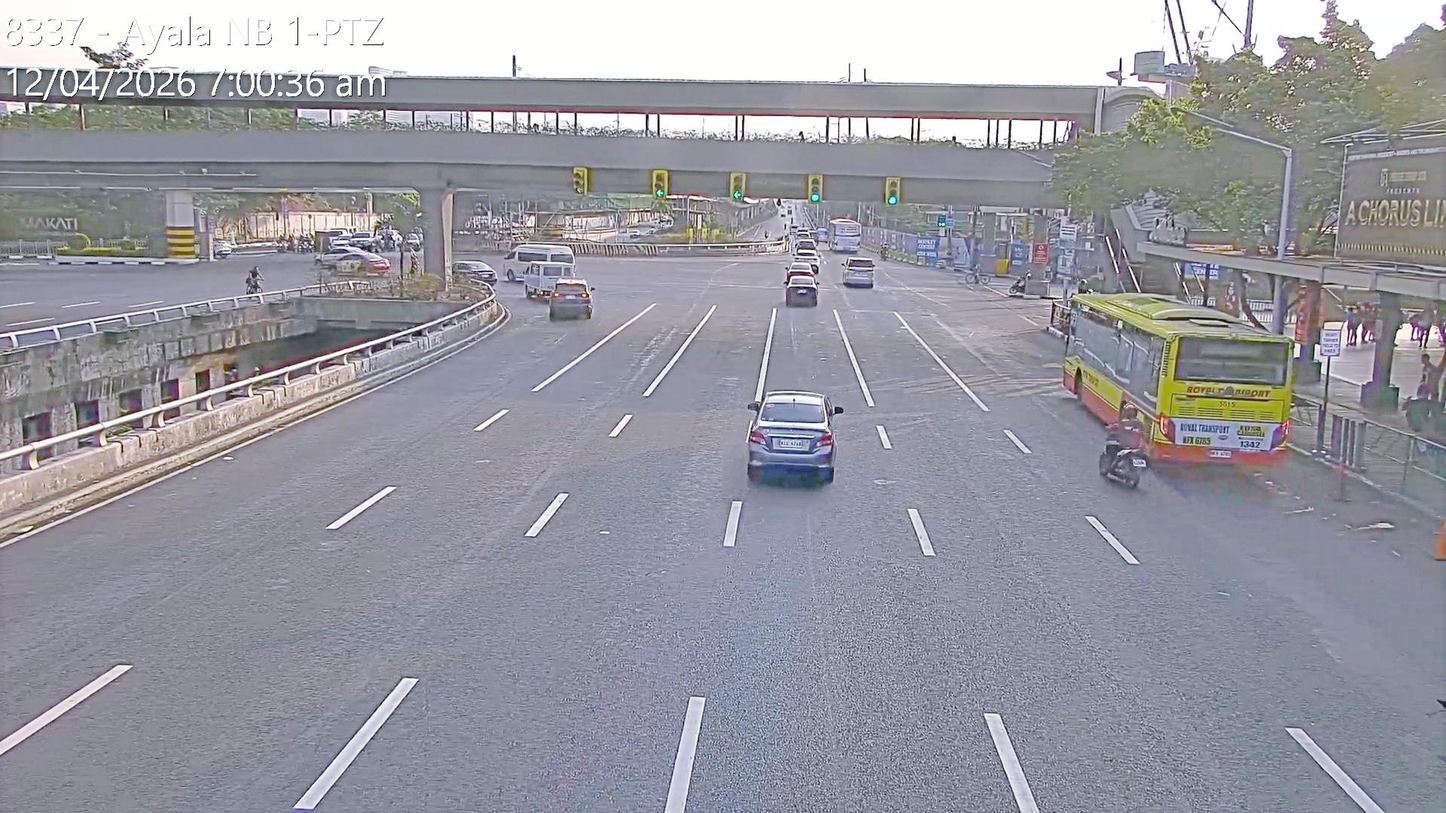Car: (746, 384, 842, 496), (501, 244, 579, 283), (544, 274, 597, 328), (523, 261, 576, 303), (319, 251, 393, 276), (311, 241, 366, 266), (451, 260, 498, 288), (784, 274, 820, 308), (843, 256, 877, 289), (786, 260, 817, 285), (350, 228, 379, 250), (375, 229, 403, 250), (795, 241, 819, 264), (328, 233, 352, 250), (214, 240, 233, 259), (404, 232, 423, 249), (815, 228, 828, 243), (789, 225, 800, 237)
Motor: (1095, 400, 1152, 491), (1007, 273, 1033, 295)
Not Accident: (1056, 299, 1297, 506), (454, 233, 607, 324), (303, 220, 430, 280), (774, 224, 834, 314)
